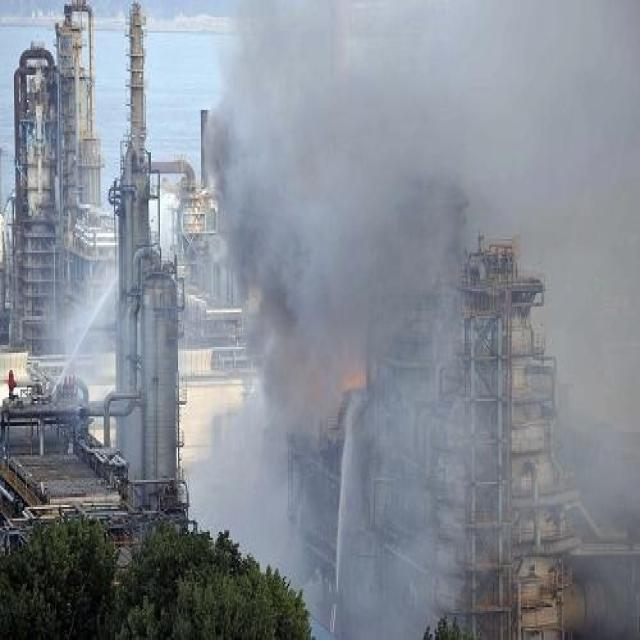Smoke: (179, 2, 640, 640)
